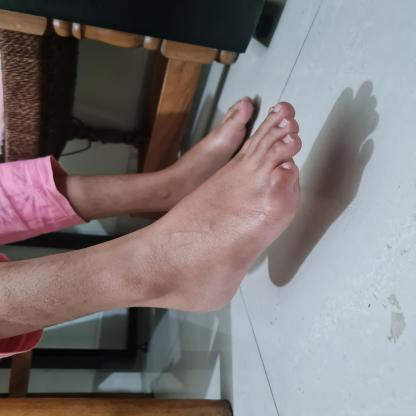leg: (121, 96, 317, 324), (84, 88, 267, 224)
